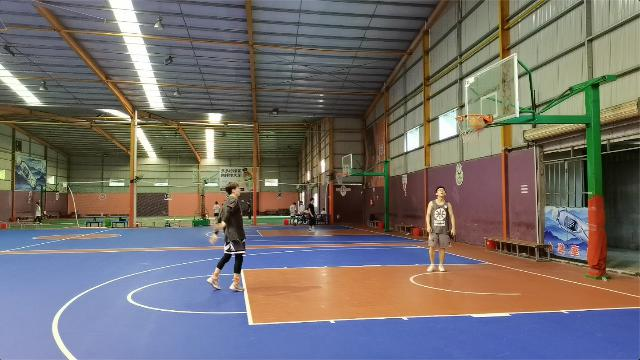basket: (455, 113, 483, 141)
goal: (469, 114, 486, 132)
